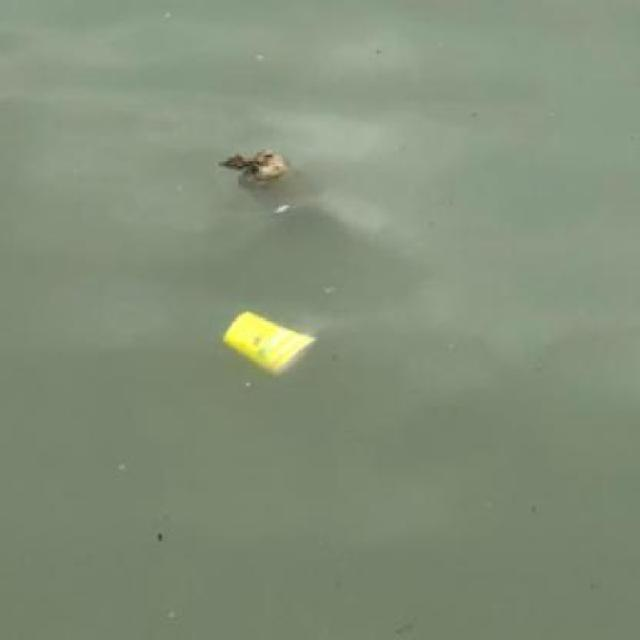Plastic cup: (218, 307, 326, 382)
